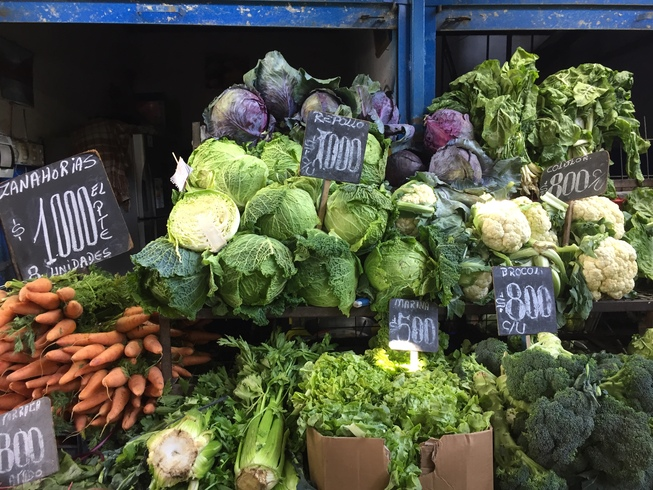precio: (1, 146, 137, 288), (301, 108, 374, 190), (1, 393, 57, 488), (489, 262, 555, 341), (387, 291, 450, 368), (540, 152, 620, 210)
